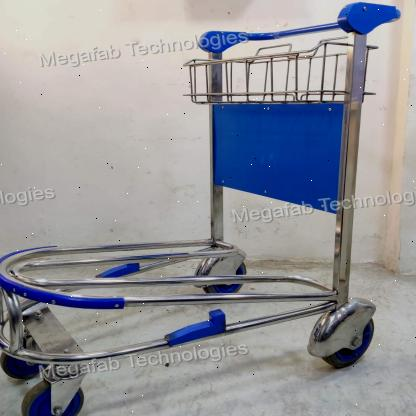airport-trolley: (0, 1, 402, 416)
